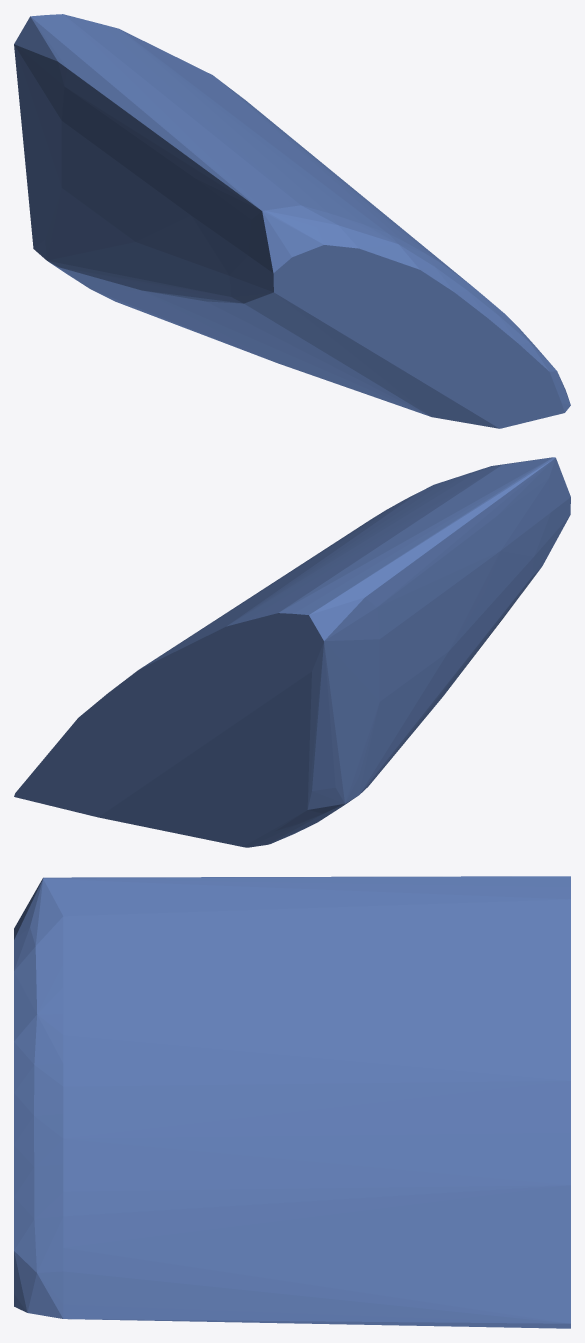
The model's file is left-shoulder-pitch-0_part_126.obj.
The picture shows the model from 3 angles, top to bottom: view 1: azimuth 30°, elevation 25°; view 2: azimuth 150°, elevation 25°; view 3: azimuth 270°, elevation 25°; orthographic projection. The views are drawn at different scales.
Size of the model in its own units: 0.0214 by 0.0164 by 0.0287.
